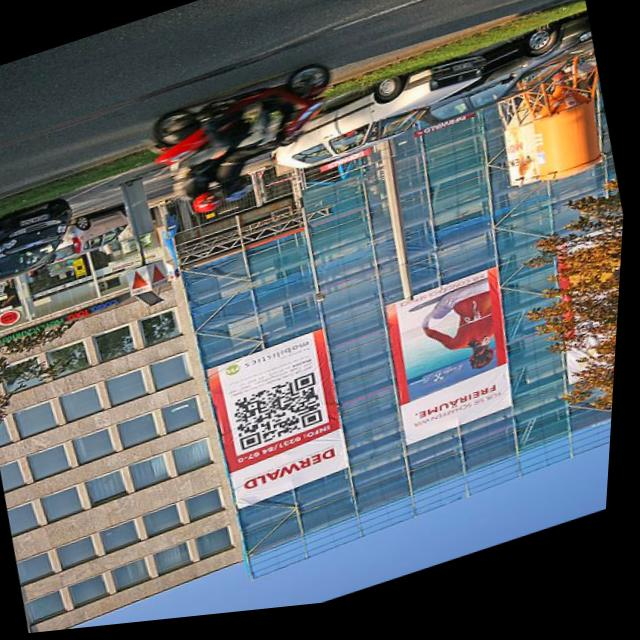qrcode: (237, 379, 331, 457)
